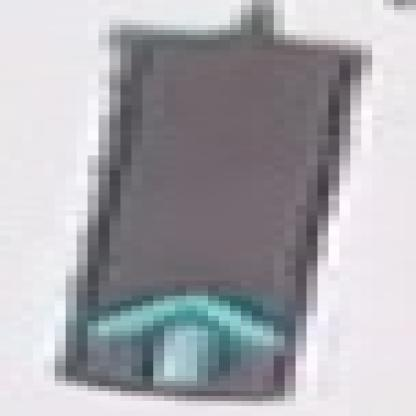Green Light: (75, 21, 360, 402)
